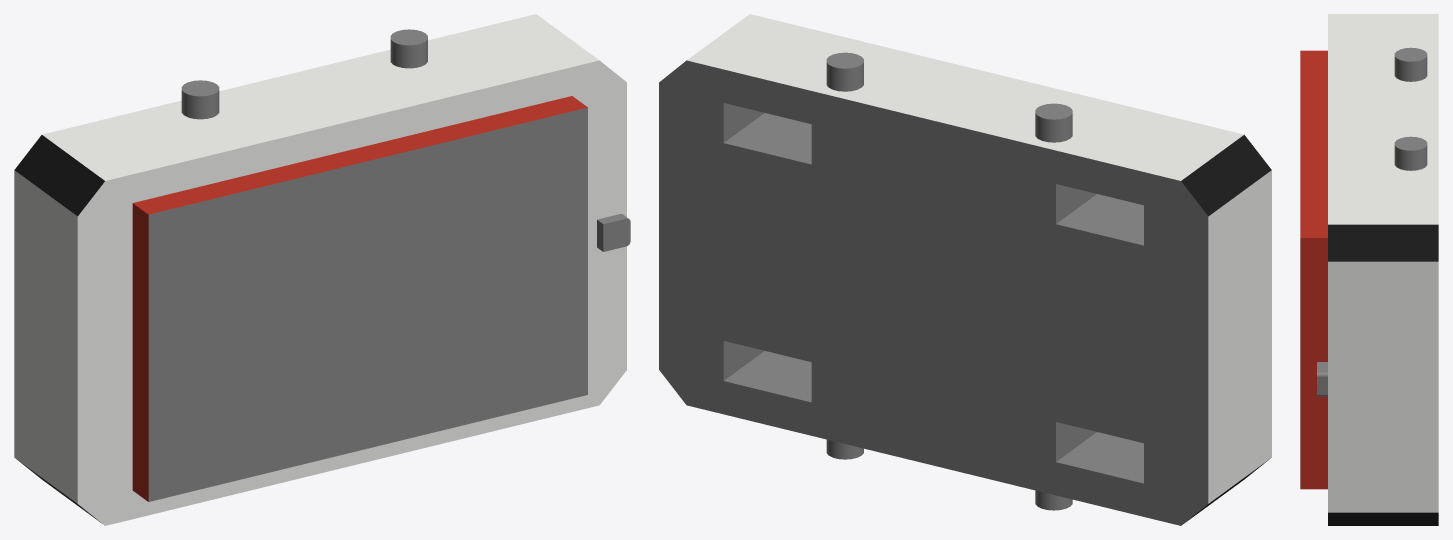
3 renders of one model, left to right at view 1: azimuth 30°, elevation 25°; view 2: azimuth 150°, elevation 25°; view 3: azimuth 270°, elevation 25°, orthographic. The views are drawn at different scales.
Parts seen in each view (by area): view 1: base_link; view 2: base_link; view 3: base_link.
Boxes of the visible parts, x1=… form: base_link: x1=14, y1=14, x2=630, y2=525; base_link: x1=659, y1=14, x2=1271, y2=525; base_link: x1=1300, y1=14, x2=1438, y2=525.
Size of the model in its own units: 50 by 34 by 12.5.
